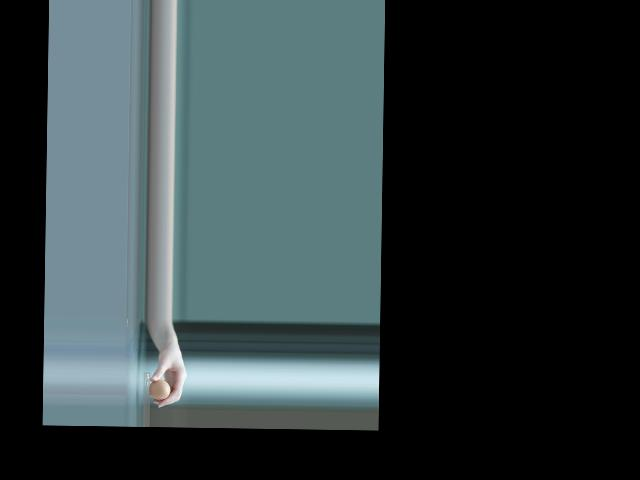egg: (148, 379, 170, 400)
